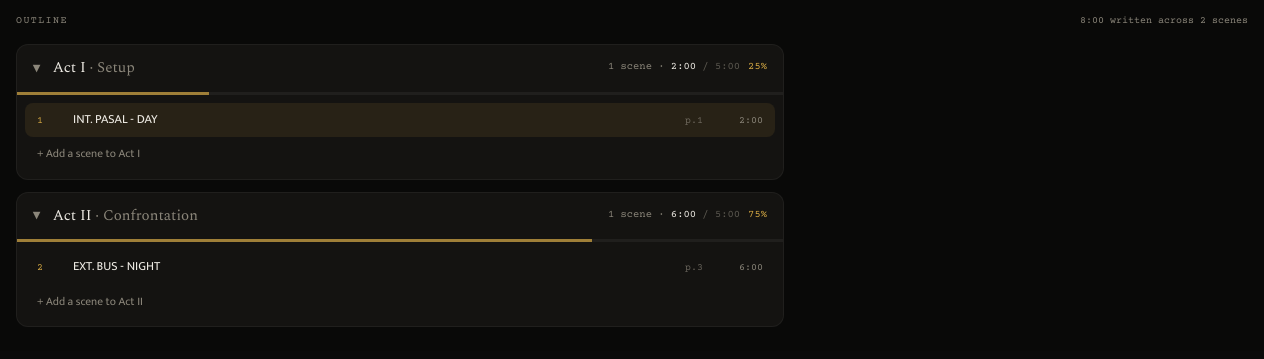
Scenario: adding a scene inline › opens a composer seeded with a usable slugline
Click the button "+ Add a scene to Act I". click: click(56, 154)
box: [25,137,775,171]
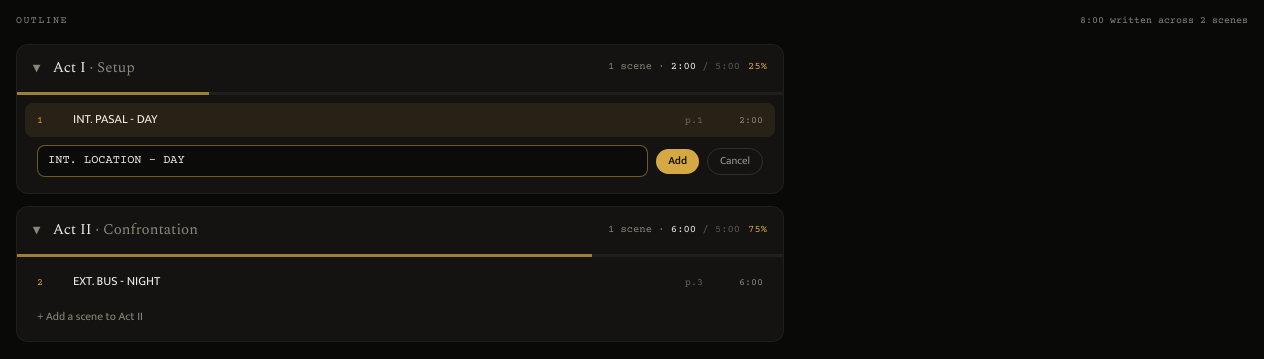
Expected: the field showing "INT. LOCATION - DAY" is shown, [37,145,648,177]
